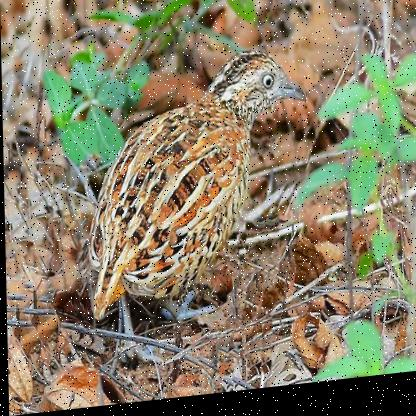Burung: (84, 50, 309, 379)
